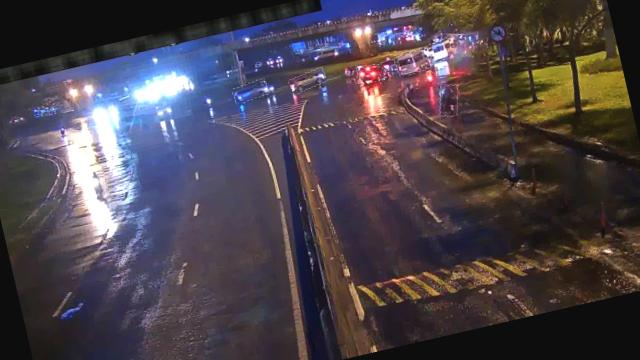Bike: (436, 82, 464, 120), (85, 165, 109, 201)
Bus: (394, 48, 431, 77), (426, 39, 454, 64)
Car: (287, 68, 327, 94), (232, 79, 270, 104), (356, 62, 386, 86)
